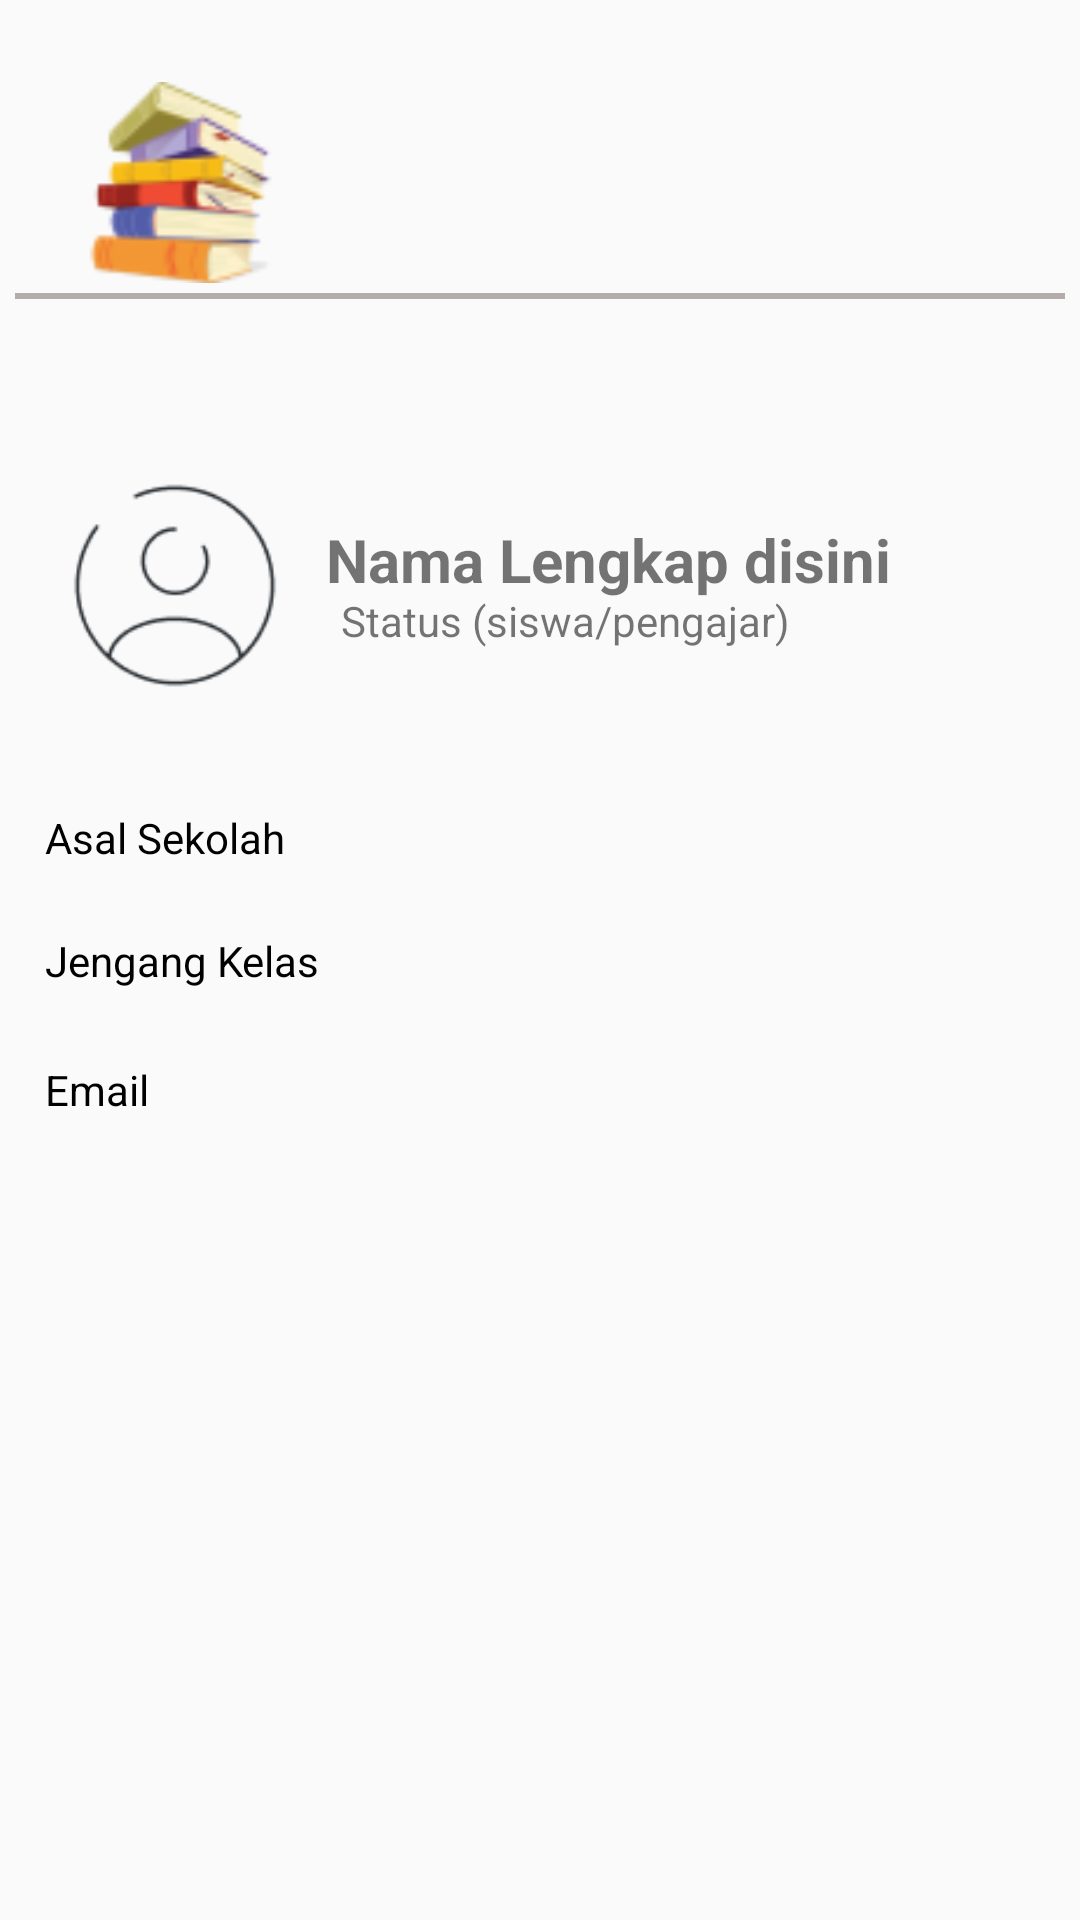

Point at icon controls on the screen. Image size 1080 x 1920, points as point (x, y).
buku: point (180, 182)
profile circle: point (175, 585)
